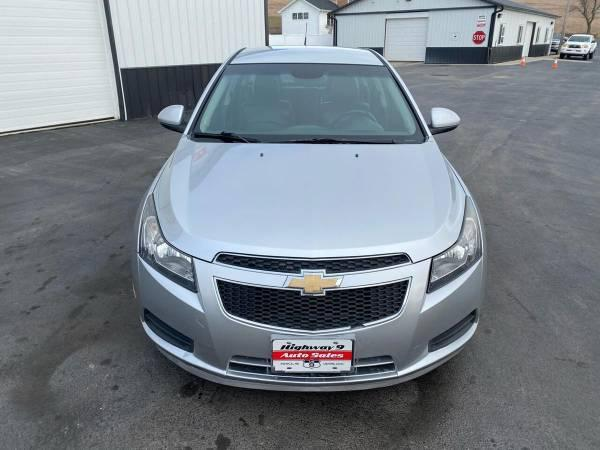Front_Bumper: (133, 257, 485, 389)
Front_Windshield: (184, 60, 426, 142)
Grille: (194, 253, 432, 330)
Hood: (154, 136, 471, 276)
Left_Headlight: (426, 197, 484, 294)
Left_Mirror: (429, 105, 462, 133)
Right_Headlight: (137, 191, 199, 295)
Right_Mirror: (158, 103, 187, 129)
Roof: (223, 39, 390, 62)
